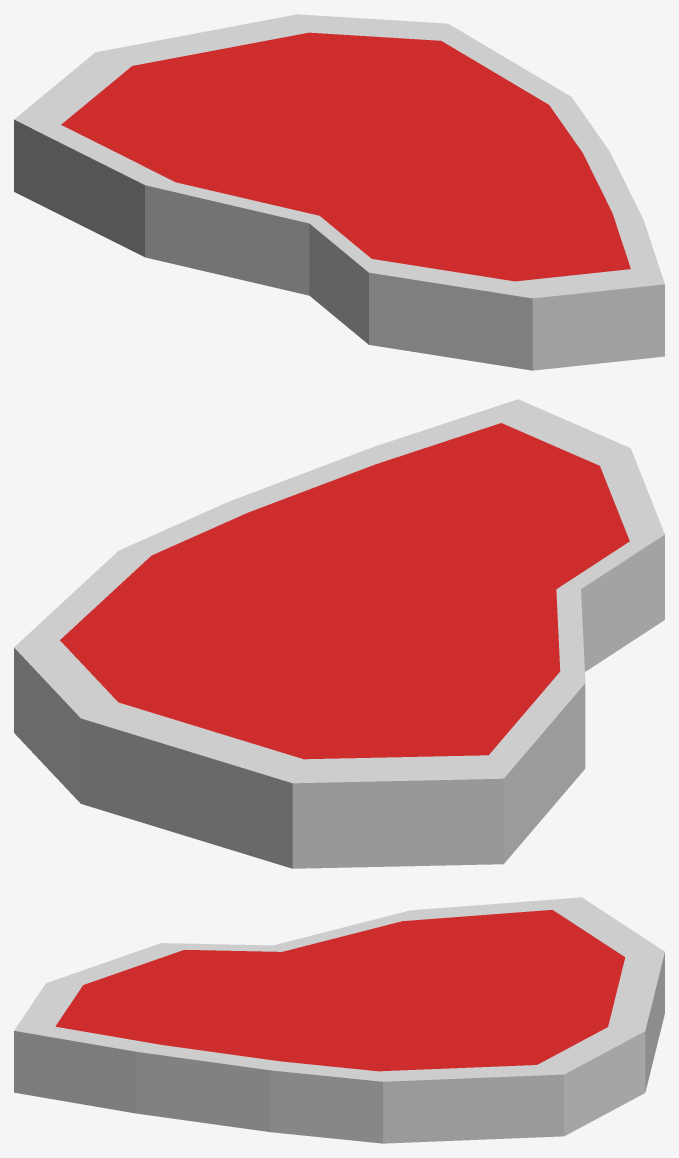
3 renders of one model, top to bottom at view 1: azimuth 30°, elevation 25°; view 2: azimuth 150°, elevation 25°; view 3: azimuth 270°, elevation 25°, orthographic. The views are drawn at different scales.
Visible parts, largest first — view 1: Meat; view 2: Meat; view 3: Meat.
Part boxes in pixels (bbox=[...]): Meat: bbox=[14, 14, 664, 370]; Meat: bbox=[14, 399, 664, 868]; Meat: bbox=[14, 897, 664, 1143].
Size of the model in its own units: 230 by 35.98 by 343.
